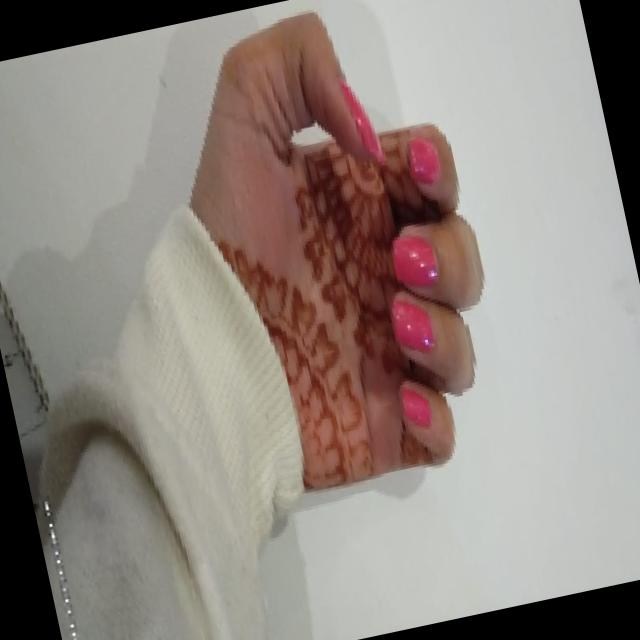Nail: (340, 80, 384, 164), (390, 235, 438, 289), (390, 299, 434, 352), (408, 139, 440, 184), (399, 387, 431, 428)
